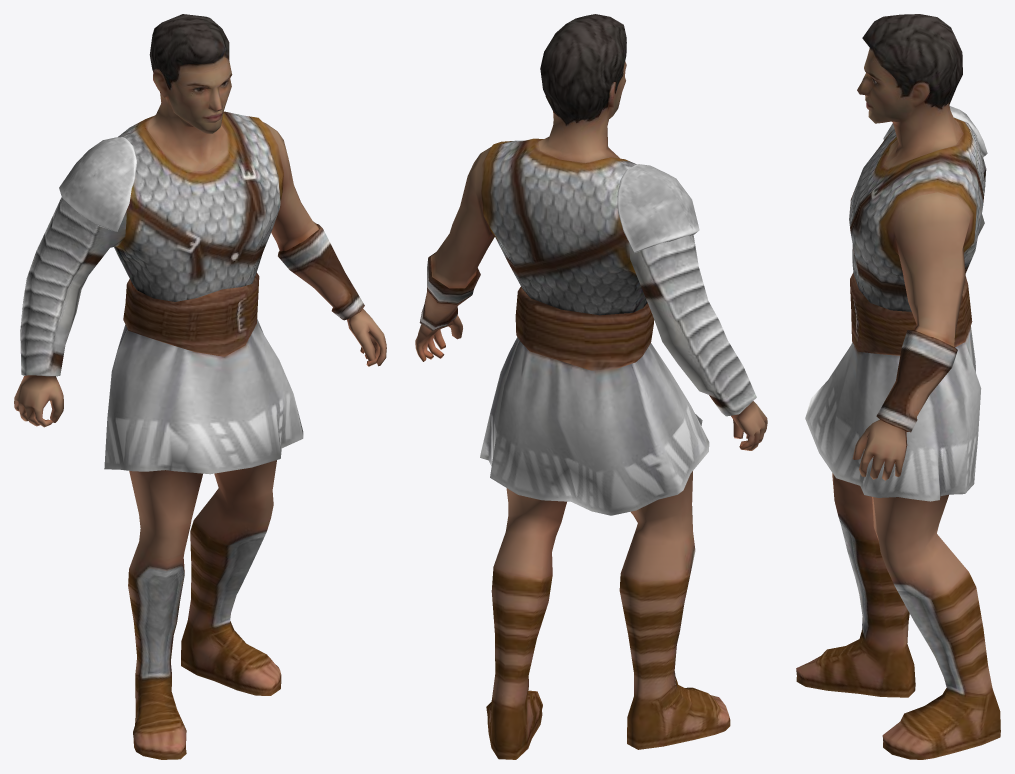
The model's file is body-championinfantry.glb.
The picture shows the model from 3 angles, left to right: view 1: azimuth 30°, elevation 25°; view 2: azimuth 150°, elevation 25°; view 3: azimuth 270°, elevation 25°; orthographic projection. The views are drawn at different scales.
Bounding box in the file's own units: 1.09 × 2.07 × 0.5498.
Materials: 1 (1 with a texture image).
